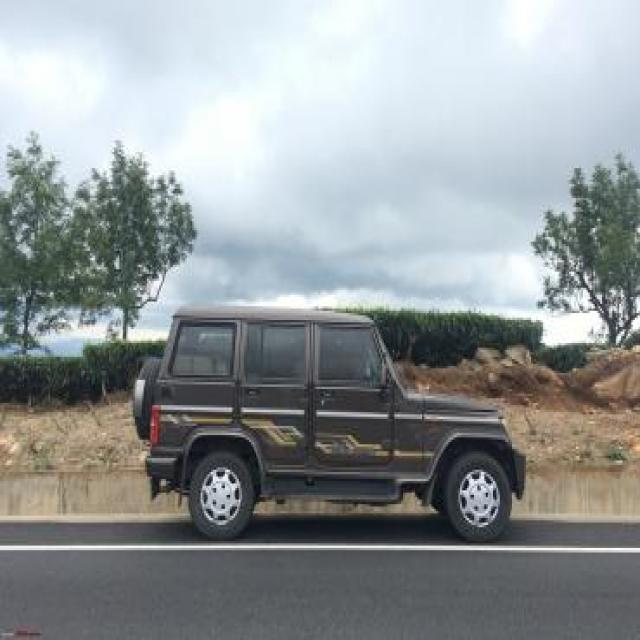light_vehicle: (131, 302, 529, 545)
